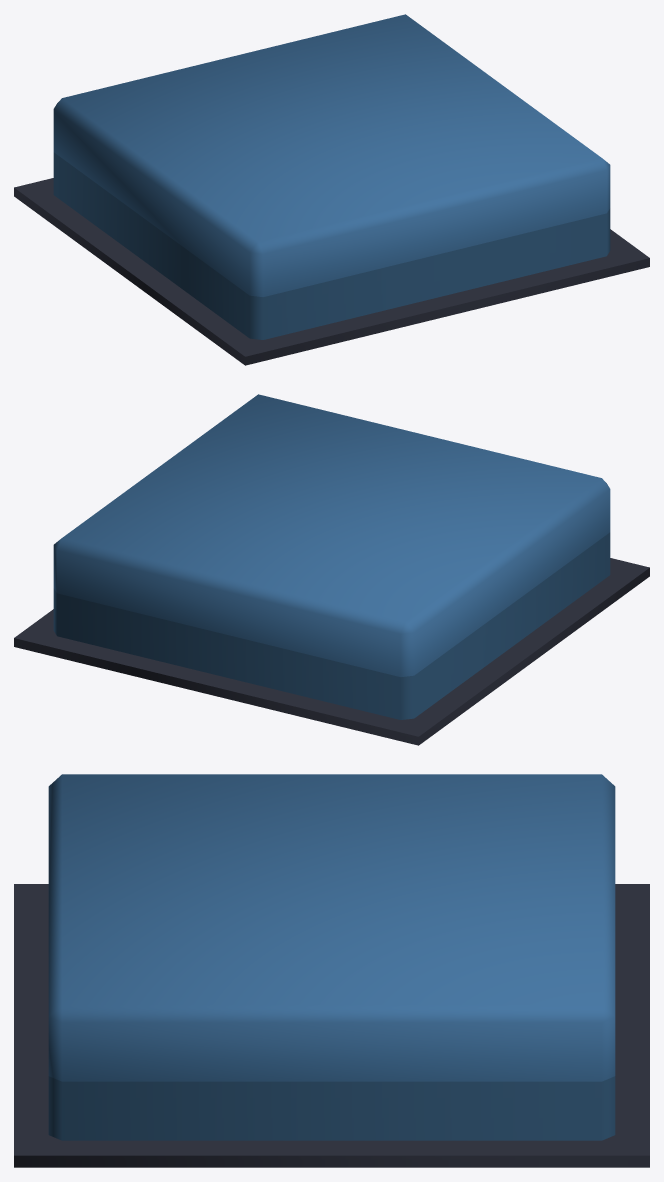
Rendered from RoofAdd_2_D_1.fbx.
The picture shows the model from 3 angles, top to bottom: view 1: azimuth 30°, elevation 25°; view 2: azimuth 150°, elevation 25°; view 3: azimuth 270°, elevation 25°; orthographic projection. The views are drawn at different scales.
Parts seen in each view (by area): view 1: RoofAdd_2_D_1; view 2: RoofAdd_2_D_1; view 3: RoofAdd_2_D_1.
Boxes of the visible parts, x1=… form: RoofAdd_2_D_1: x1=14, y1=14, x2=649, y2=365; RoofAdd_2_D_1: x1=14, y1=394, x2=649, y2=745; RoofAdd_2_D_1: x1=14, y1=774, x2=649, y2=1167.
Size of the model in its own units: 303 by 74.17 by 300.
